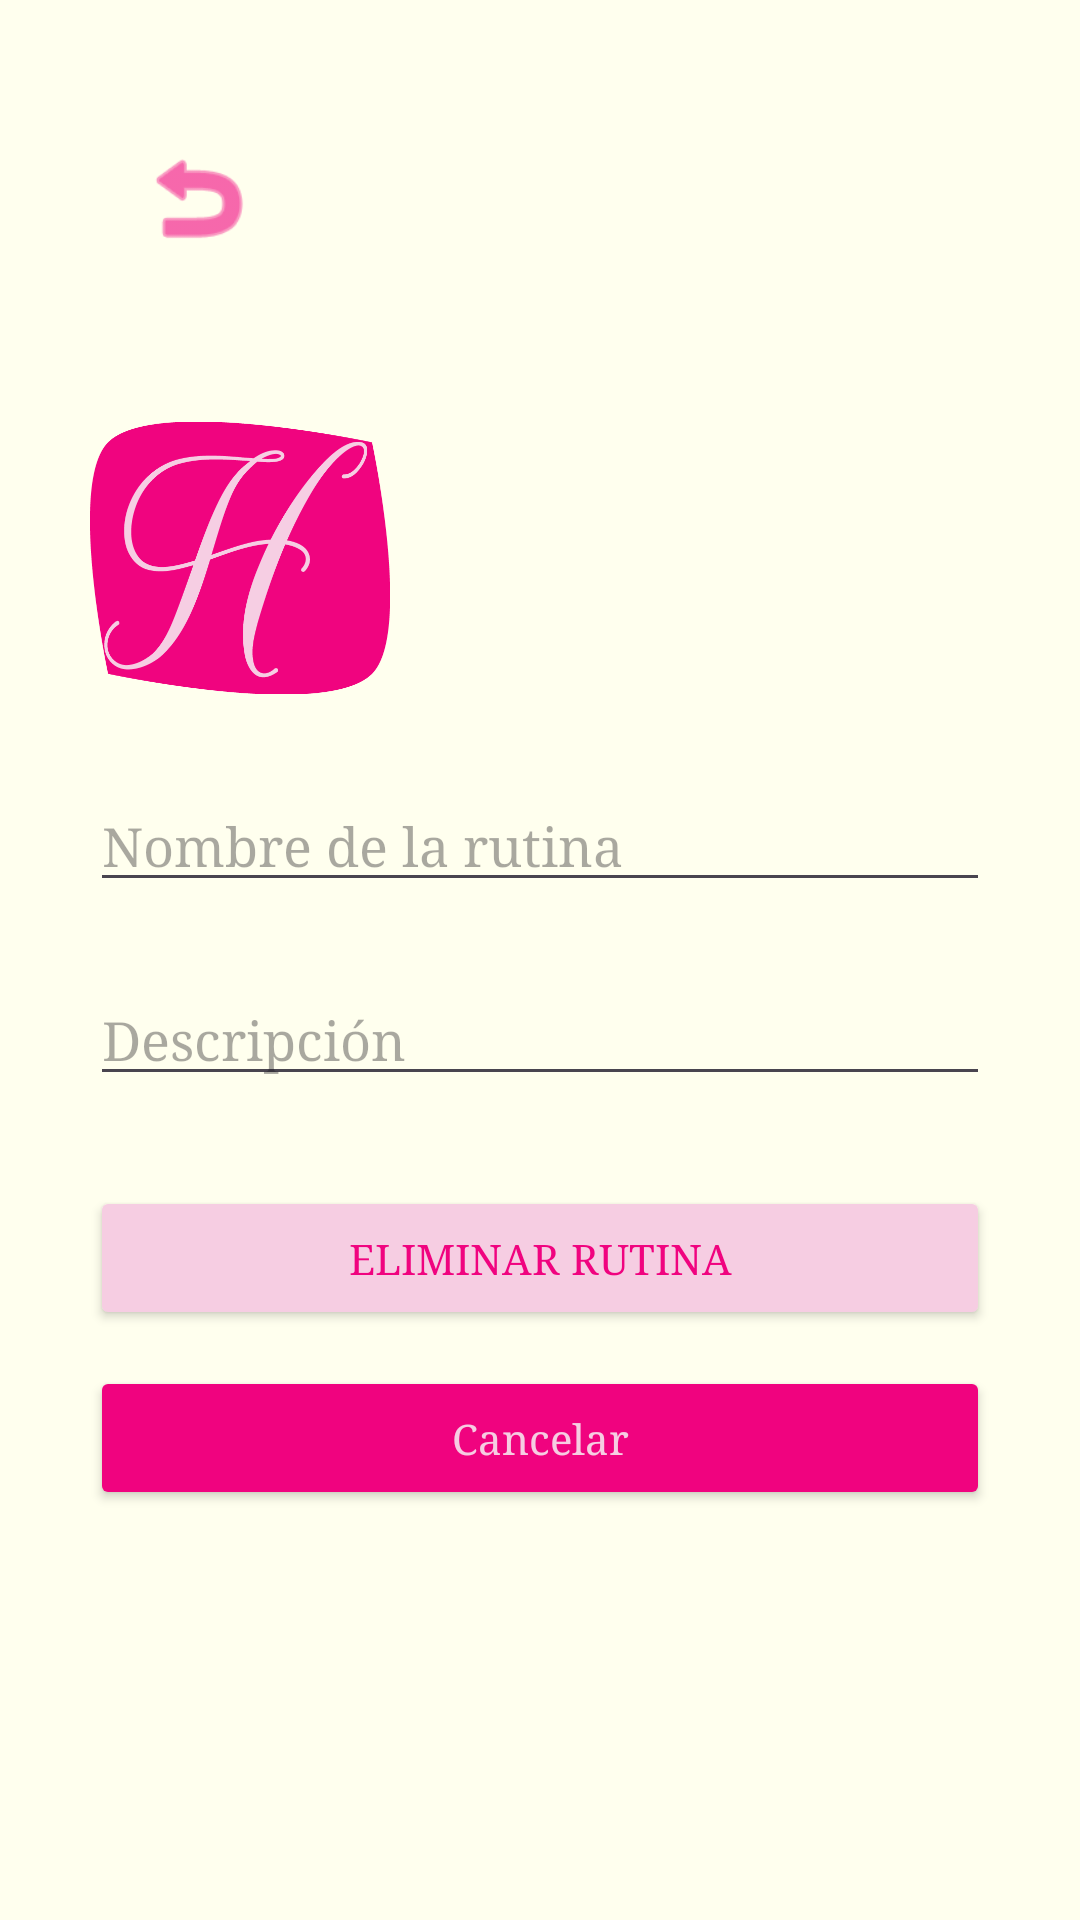

Screen size 1080px x 1920px. Icon name, then its box in pixels as BBox(x1, y1, x2, y2):
Volver: BBox(156, 160, 243, 238)
